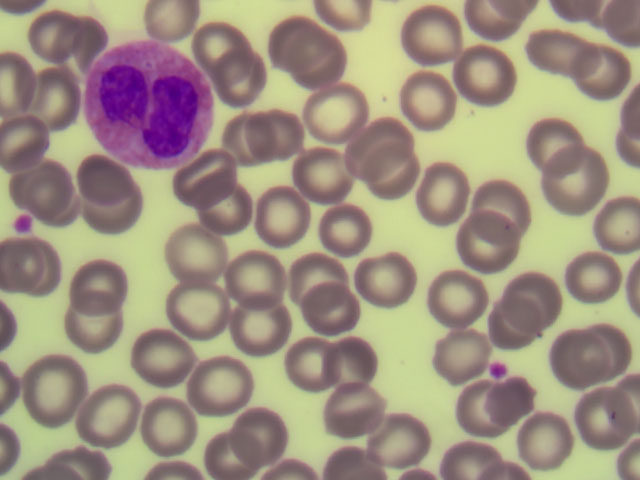Platelets: (11, 213, 35, 234), (485, 361, 509, 375)
RBC: (200, 426, 254, 480), (30, 10, 84, 63), (30, 69, 84, 122), (59, 13, 113, 66), (11, 154, 65, 207), (70, 150, 124, 203), (89, 191, 143, 244), (72, 264, 126, 317), (65, 299, 119, 352), (4, 236, 58, 289), (26, 361, 80, 414), (80, 393, 134, 446), (140, 400, 194, 453), (194, 363, 248, 416), (141, 335, 195, 388), (164, 287, 218, 340), (171, 227, 225, 280), (205, 187, 259, 240), (171, 146, 225, 199), (218, 110, 272, 163), (250, 105, 304, 158), (213, 55, 267, 108), (195, 16, 249, 69), (262, 8, 316, 61), (293, 38, 347, 91), (313, 81, 367, 134), (357, 117, 411, 170), (300, 150, 354, 203), (257, 188, 311, 241), (313, 205, 367, 258), (356, 254, 410, 307), (288, 245, 342, 298), (232, 247, 286, 300), (235, 301, 289, 354), (274, 335, 328, 388), (325, 336, 379, 389), (429, 269, 483, 322), (430, 329, 484, 382), (330, 381, 384, 434), (379, 417, 433, 470), (451, 389, 505, 442), (496, 375, 550, 428), (549, 330, 603, 383), (576, 321, 630, 374), (493, 297, 547, 350), (509, 273, 563, 326), (456, 215, 510, 268), (479, 175, 533, 228), (416, 165, 470, 218), (402, 72, 456, 125), (457, 48, 511, 101), (402, 10, 456, 63), (523, 27, 577, 80), (574, 31, 628, 84), (530, 111, 584, 164), (544, 152, 598, 205), (586, 198, 640, 251), (558, 250, 612, 303), (569, 388, 623, 441), (520, 415, 574, 468), (233, 408, 287, 461), (1, 113, 54, 166), (141, 1, 195, 53)
WBC: (88, 41, 214, 167)
